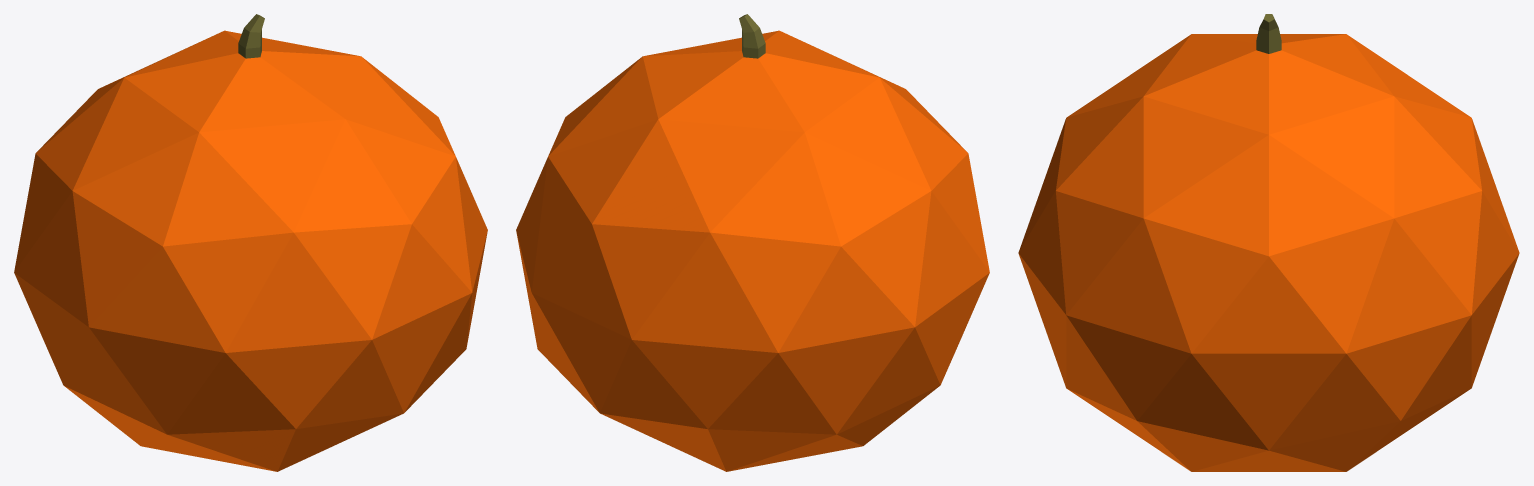
File: orange.fbx
3 renders of one model, left to right at view 1: azimuth 30°, elevation 25°; view 2: azimuth 150°, elevation 25°; view 3: azimuth 270°, elevation 25°, orthographic. The views are drawn at different scales.
Parts seen in each view (by area): view 1: orange; view 2: orange; view 3: orange.
Part boxes in pixels (<box>): orange: <box>14,14,487,471</box>; orange: <box>516,14,989,471</box>; orange: <box>1018,14,1519,471</box>.
Bounding box in the file's own units: 190 × 197 × 200.
